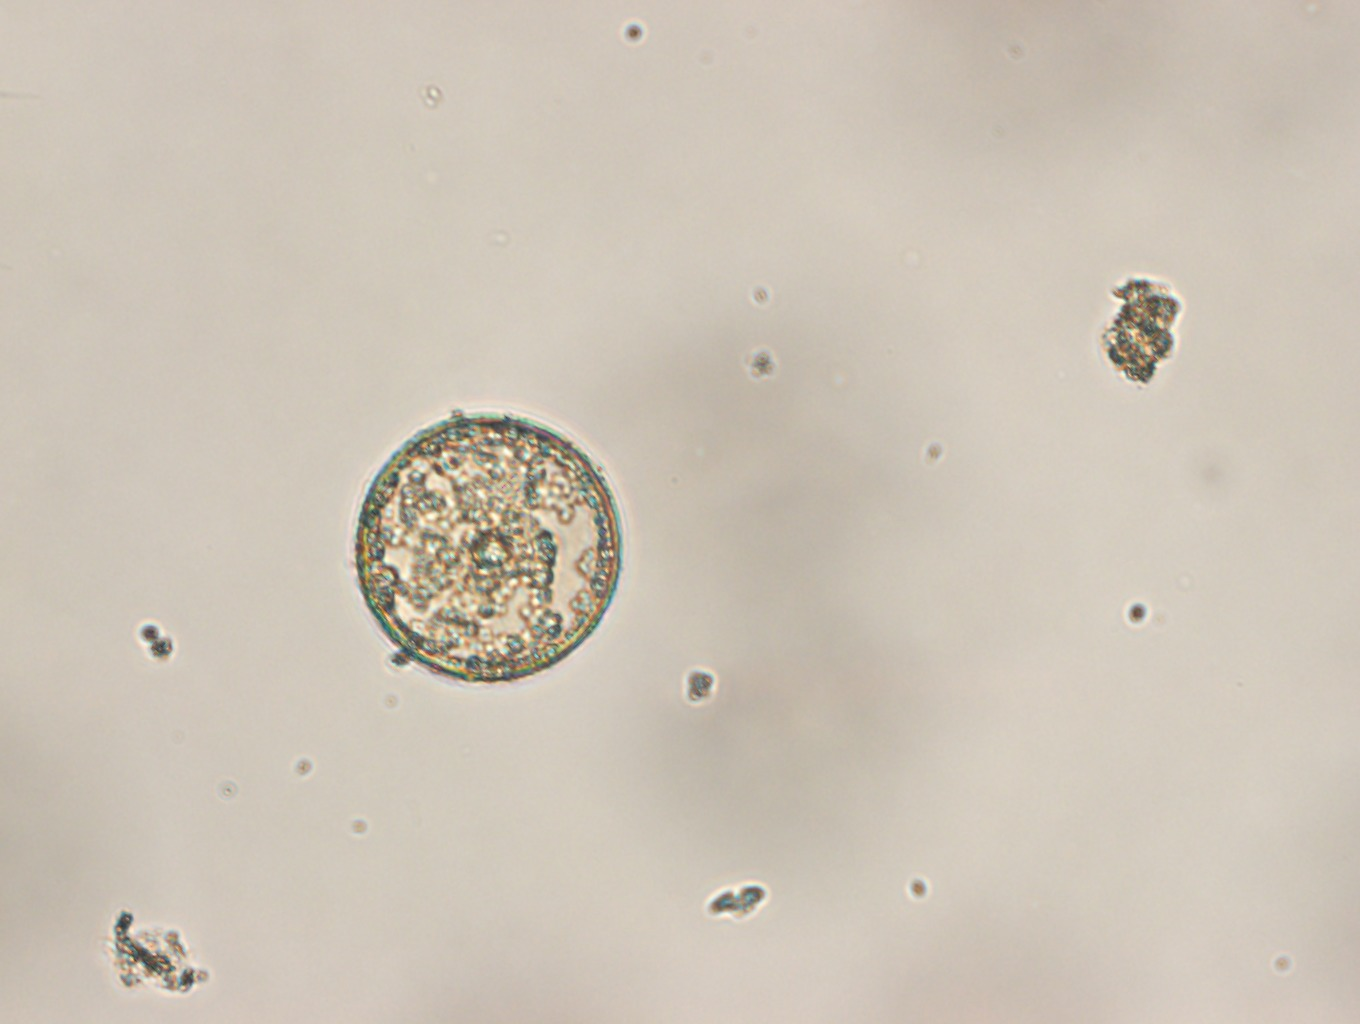coscinodiscus: (353, 410, 622, 686)
